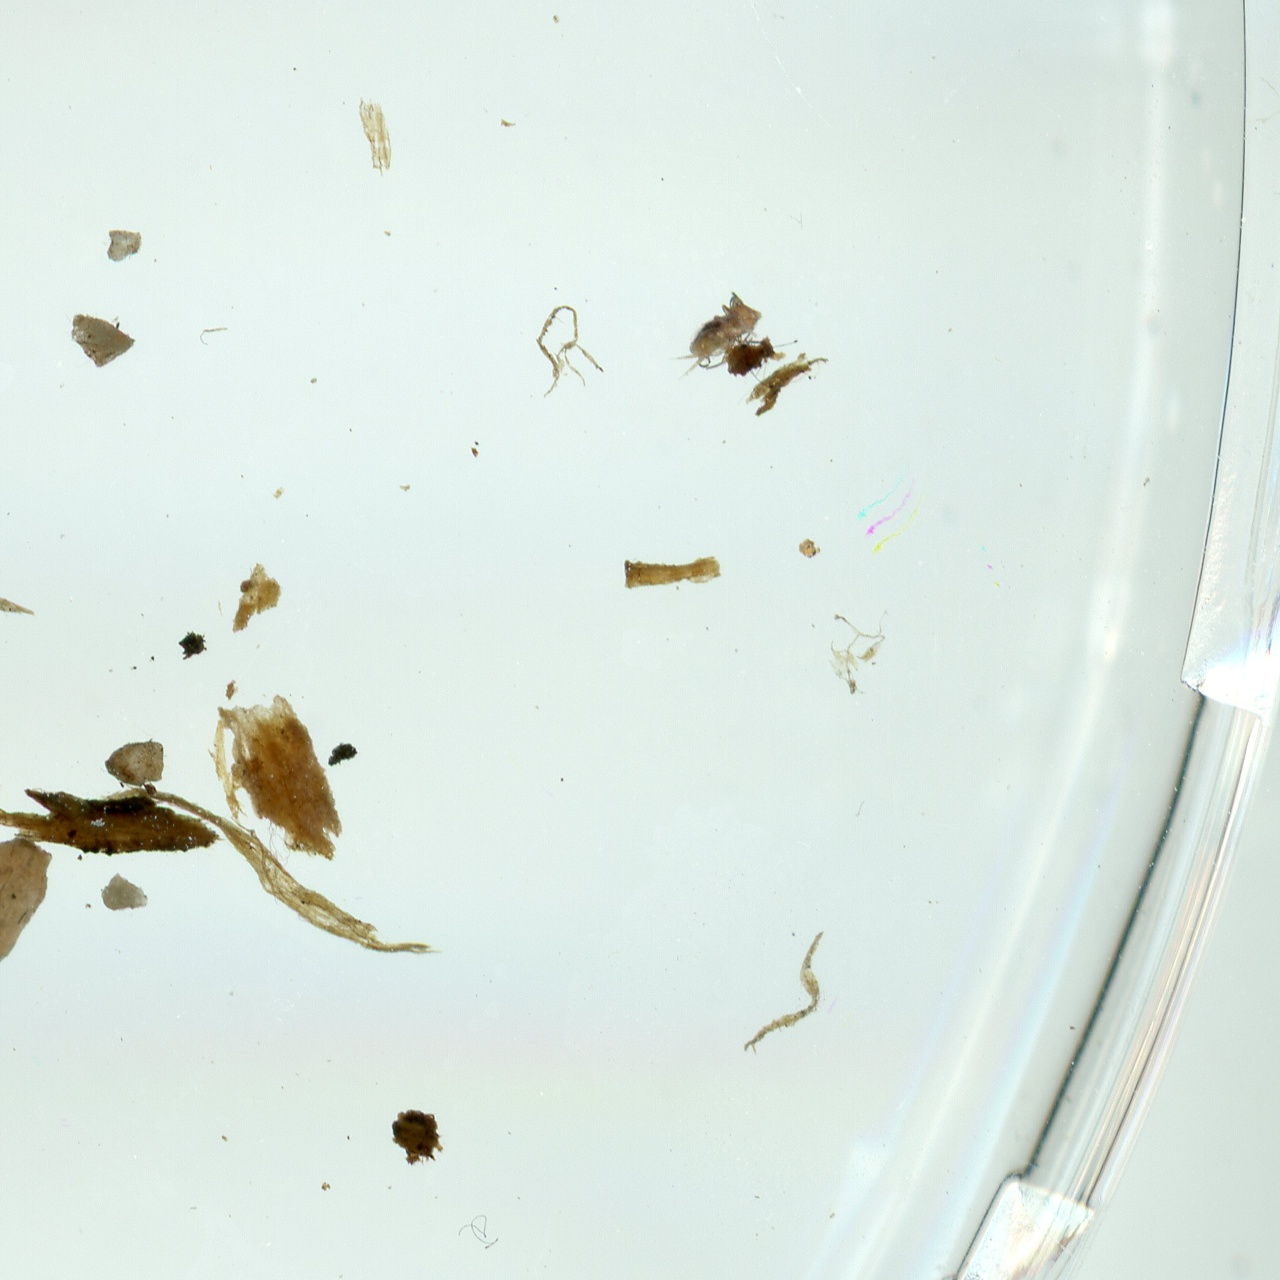arthropod: (652, 282, 774, 397)
